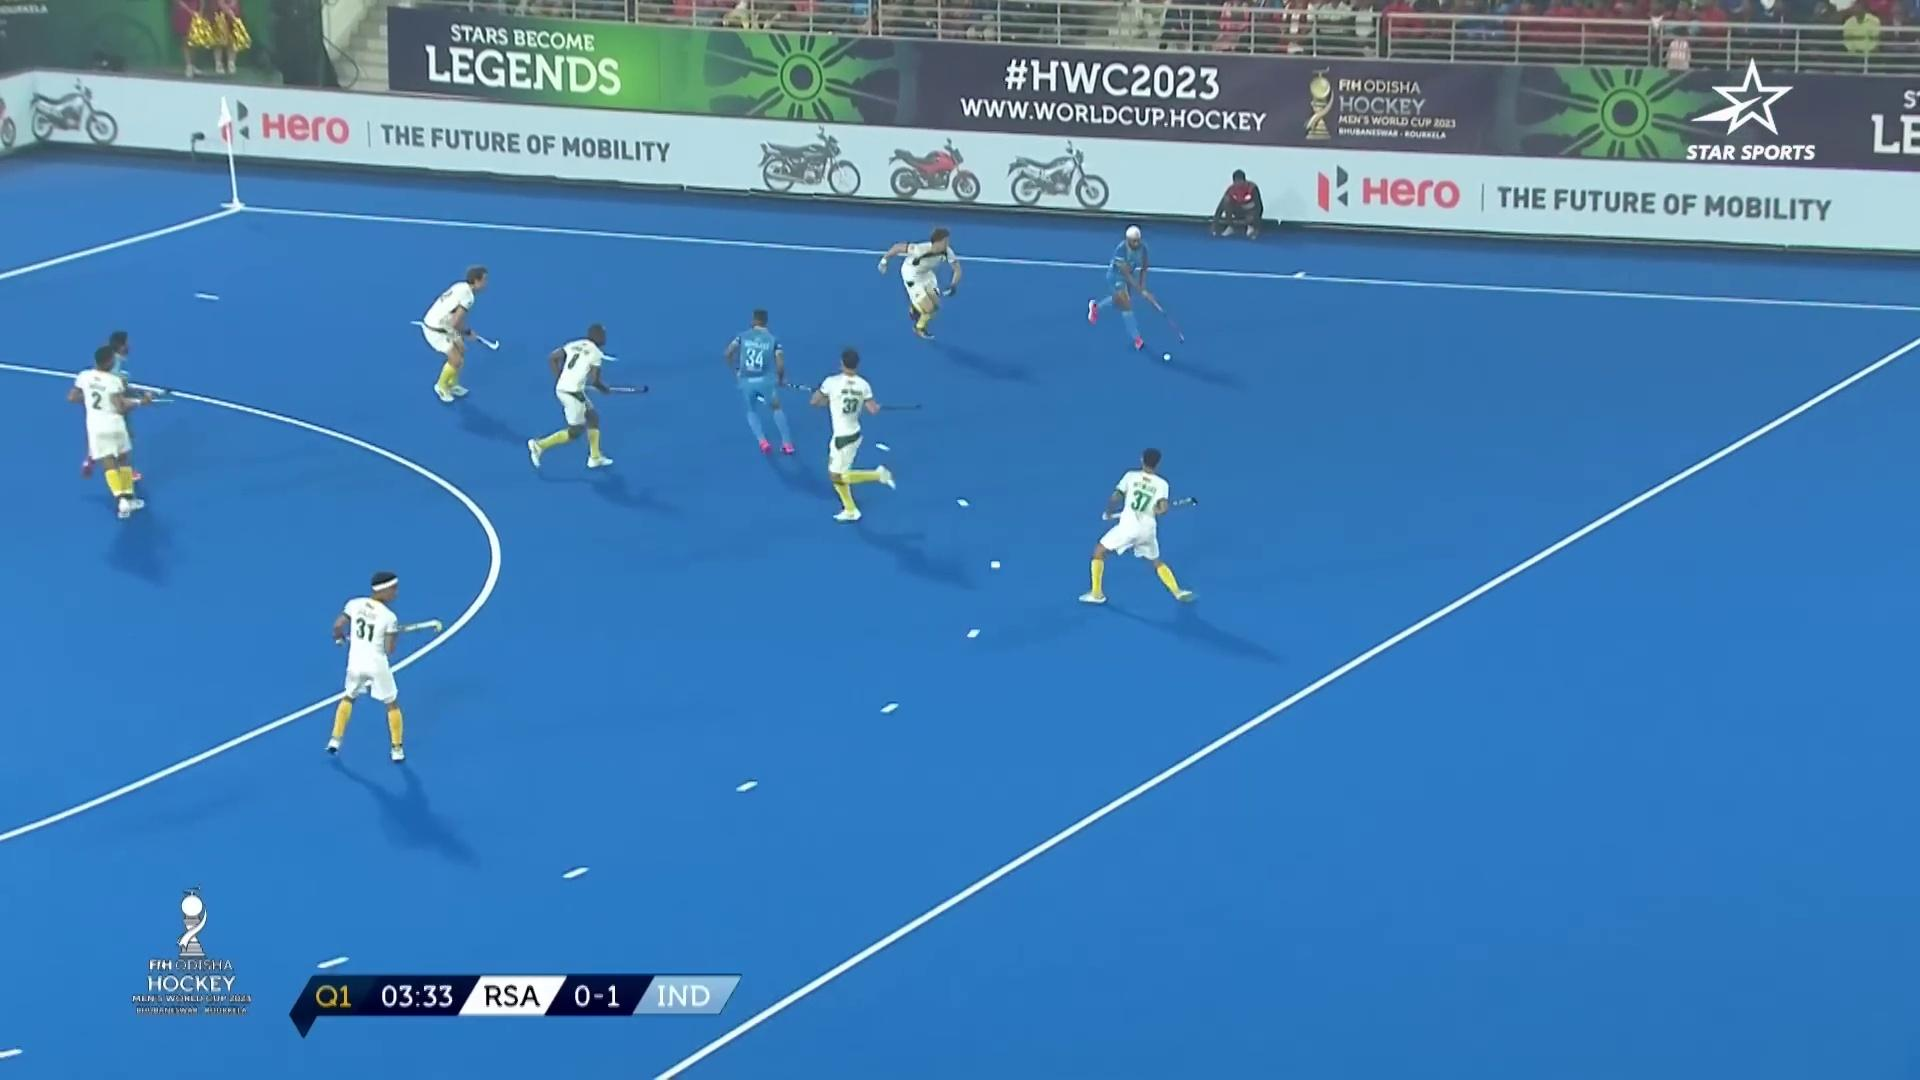ball: (1158, 344, 1183, 368)
